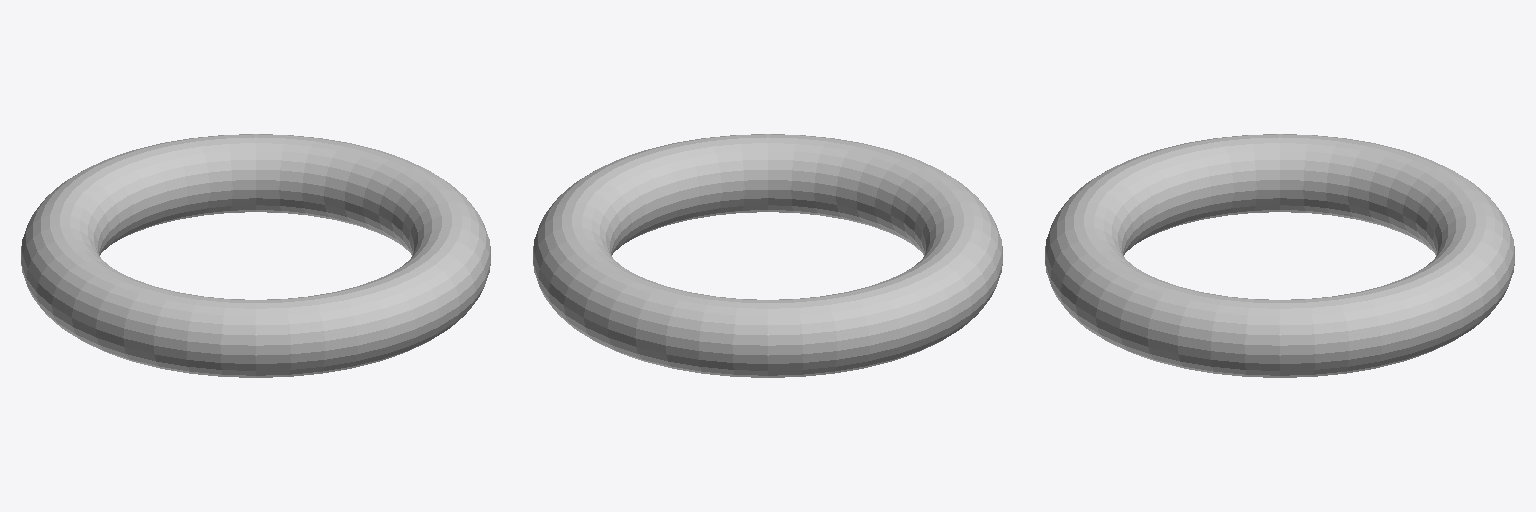
File: donut.obj
The picture shows the model from 3 angles: view 1: azimuth 30°, elevation 25°; view 2: azimuth 150°, elevation 25°; view 3: azimuth 270°, elevation 25°; orthographic projection.
Visible parts, largest first — view 1: Body1; view 2: Body1; view 3: Body1.
Part boxes in pixels (x1,y1,x2,y2): Body1: (21, 134, 490, 377); Body1: (533, 134, 1002, 377); Body1: (1045, 134, 1514, 377).
Bounding box in the file's own units: 6 × 1 × 5.98.